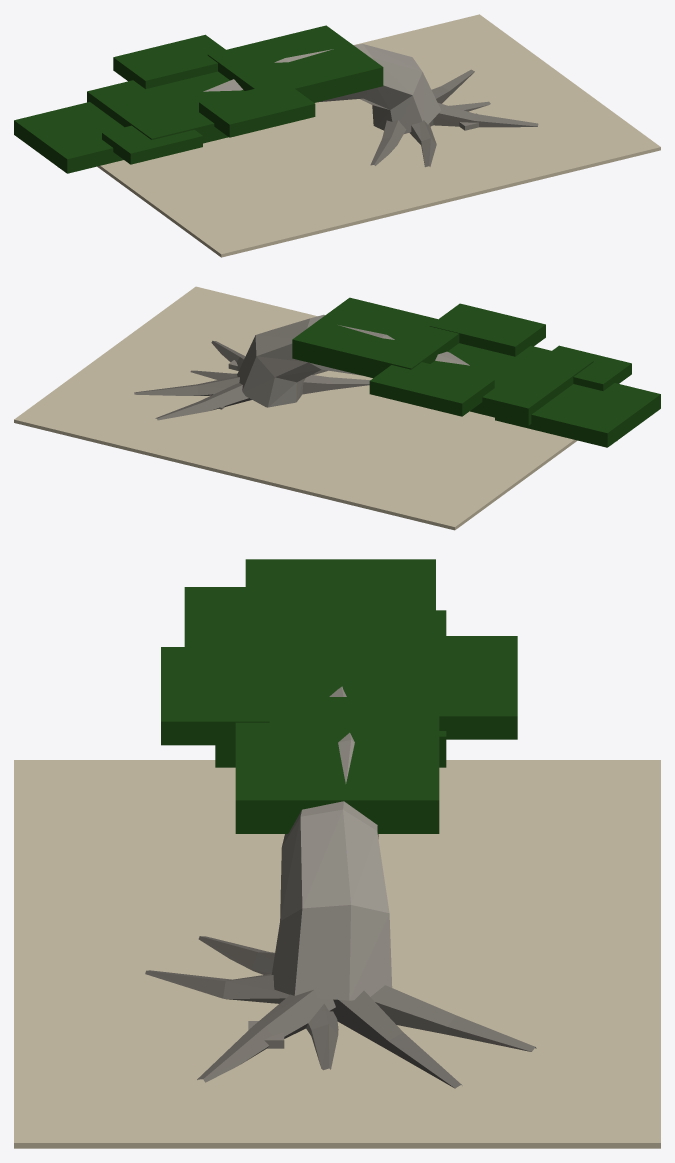
File: eb_fofoti_10.glb
3 views of the same model, one above another, from view 1: azimuth 30°, elevation 25°; view 2: azimuth 150°, elevation 25°; view 3: azimuth 270°, elevation 25° (orthographic). The views are drawn at different scales.
Visible parts, largest first — view 1: eb_fofoti_10_lod0; view 2: eb_fofoti_10_lod0; view 3: eb_fofoti_10_lod0.
Boxes of the visible parts, x1,y1,x2,y2 form: eb_fofoti_10_lod0: (14, 14, 660, 257); eb_fofoti_10_lod0: (14, 286, 660, 530); eb_fofoti_10_lod0: (14, 559, 660, 1148).
Size of what is drawn, in the model's own units: 16.84 by 2.95 by 10.
